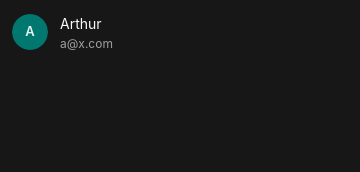
erro volta o que foi digitado para o campo
The width and height of the screenshot is (360, 172).
Click the button with aria-label "Editar o nome de Arthur" at (81, 24), box x1=54 y1=12 x2=108 y2=36
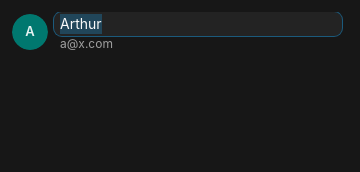
Replace the text in the field named "Nome" with "A" at (198, 24), box x1=54 y1=12 x2=342 y2=36
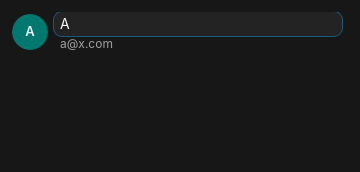
Leave the field named "Nome", box x1=54 y1=12 x2=342 y2=36
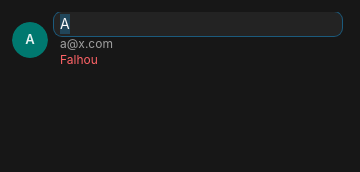
expect the field named "Nome" holds "A": met, box x1=54 y1=12 x2=342 y2=36
expect the message reads "Falhou": met, box x1=60 y1=52 x2=98 y2=67
